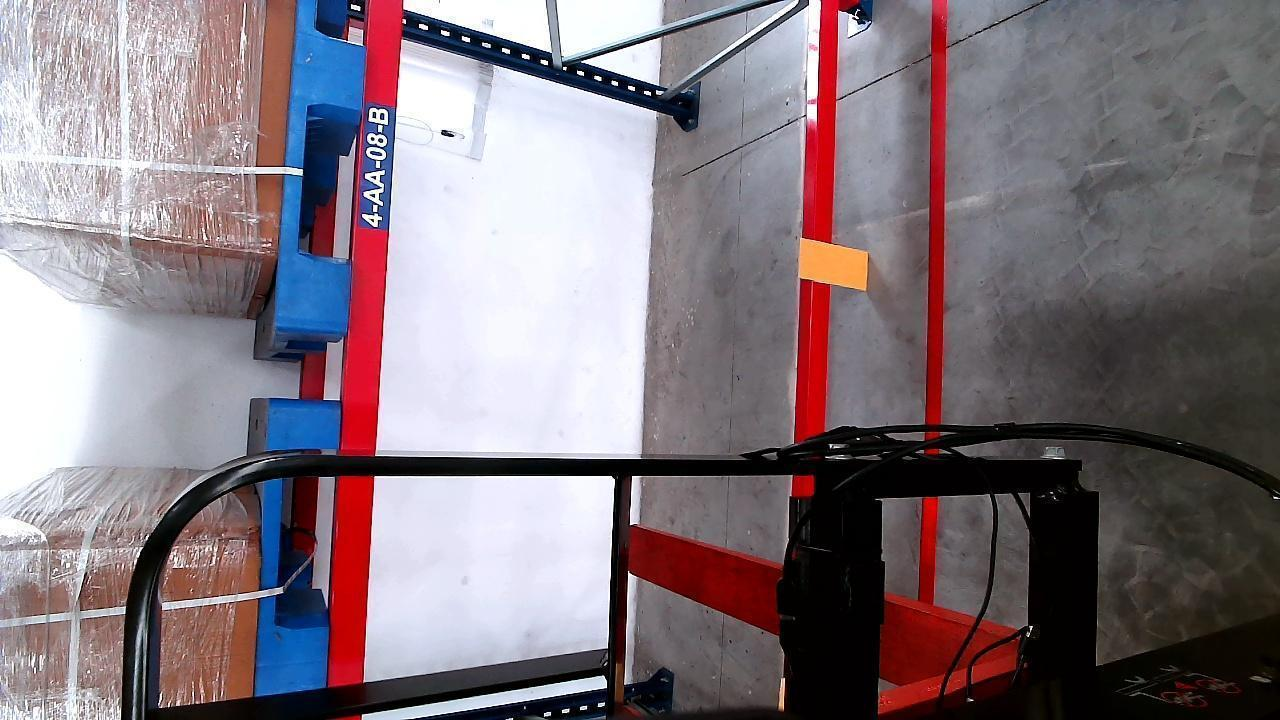red_line: (919, 0, 950, 609)
